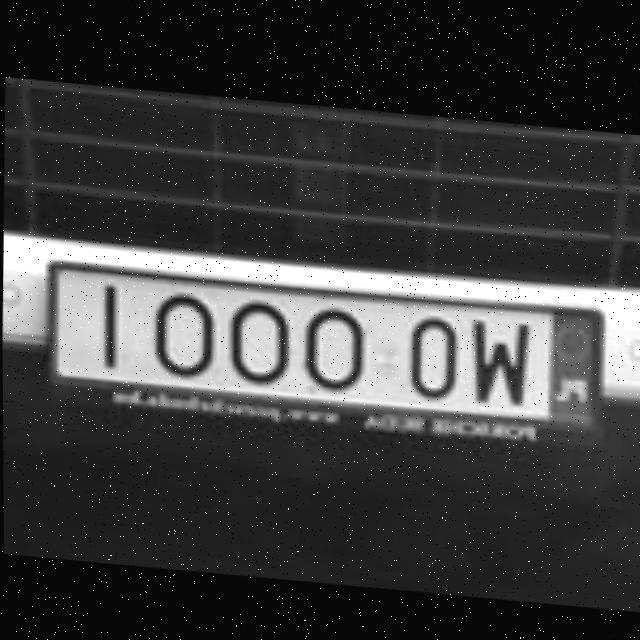license-plates: (50, 264, 600, 427)
